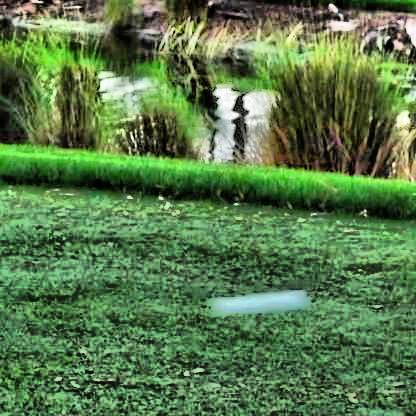golfball: (206, 282, 311, 317)
